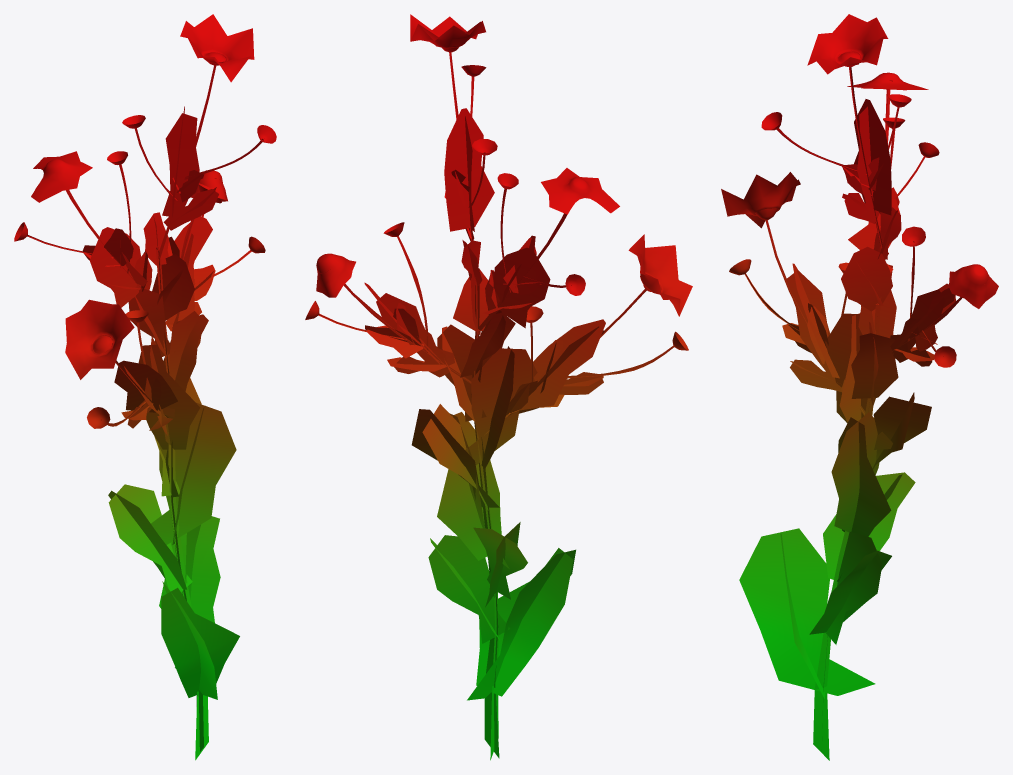
Rendered from Chamomile_LOD0_Var6_ujcnejvja.fbx.
The picture shows the model from 3 angles, left to right: view 1: azimuth 30°, elevation 25°; view 2: azimuth 150°, elevation 25°; view 3: azimuth 270°, elevation 25°; orthographic projection. The views are drawn at different scales.
Visible parts, largest first — view 1: _ayoy_Var6_LOD0; view 2: _ayoy_Var6_LOD0; view 3: _ayoy_Var6_LOD0.
Boxes of the visible parts, x1,y1,x2,y2 form: _ayoy_Var6_LOD0: (14, 14, 276, 760); _ayoy_Var6_LOD0: (305, 14, 692, 760); _ayoy_Var6_LOD0: (721, 14, 998, 760).
Bounding box in the file's own units: 17.94 × 44.34 × 14.89.
